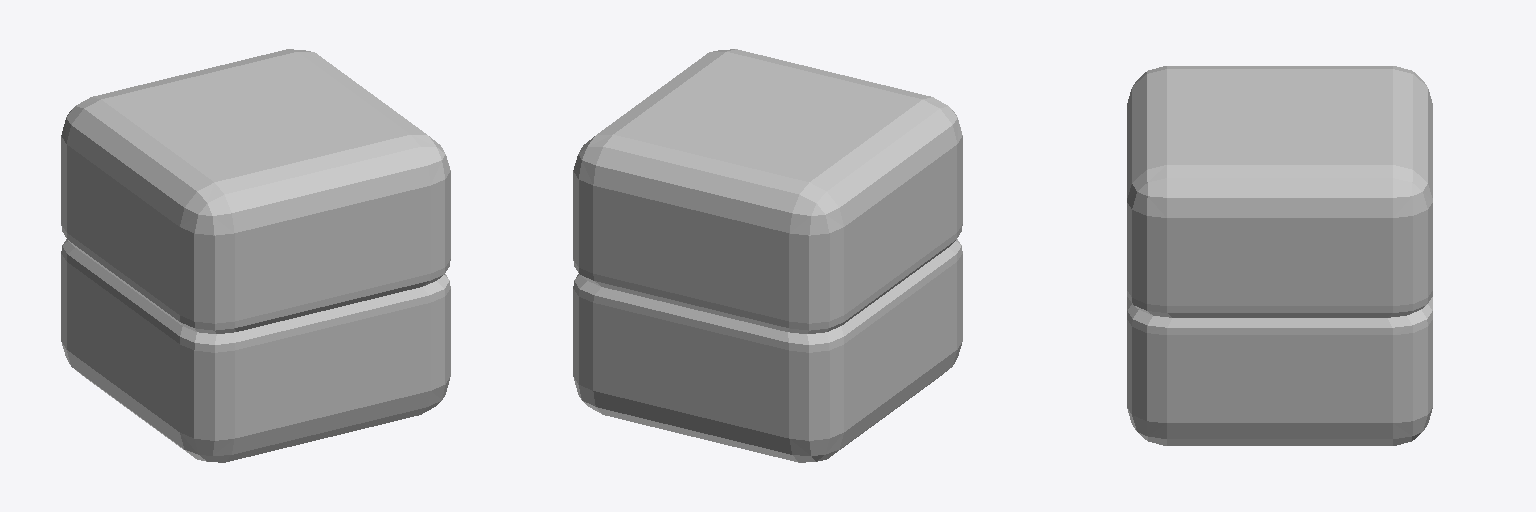
The model's file is tileSmall_forest.obj.
3 renders of one model, left to right at view 1: azimuth 30°, elevation 25°; view 2: azimuth 150°, elevation 25°; view 3: azimuth 270°, elevation 25°, orthographic.
Parts seen in each view (by area): view 1: tileSmall_forest_Cube.722; view 2: tileSmall_forest_Cube.722; view 3: tileSmall_forest_Cube.722.
Part boxes in pixels (x1,y1,x2,y2): tileSmall_forest_Cube.722: (61, 49, 450, 462); tileSmall_forest_Cube.722: (573, 49, 962, 462); tileSmall_forest_Cube.722: (1127, 66, 1432, 445).
Bounding box in the file's own units: 1 × 1 × 1.